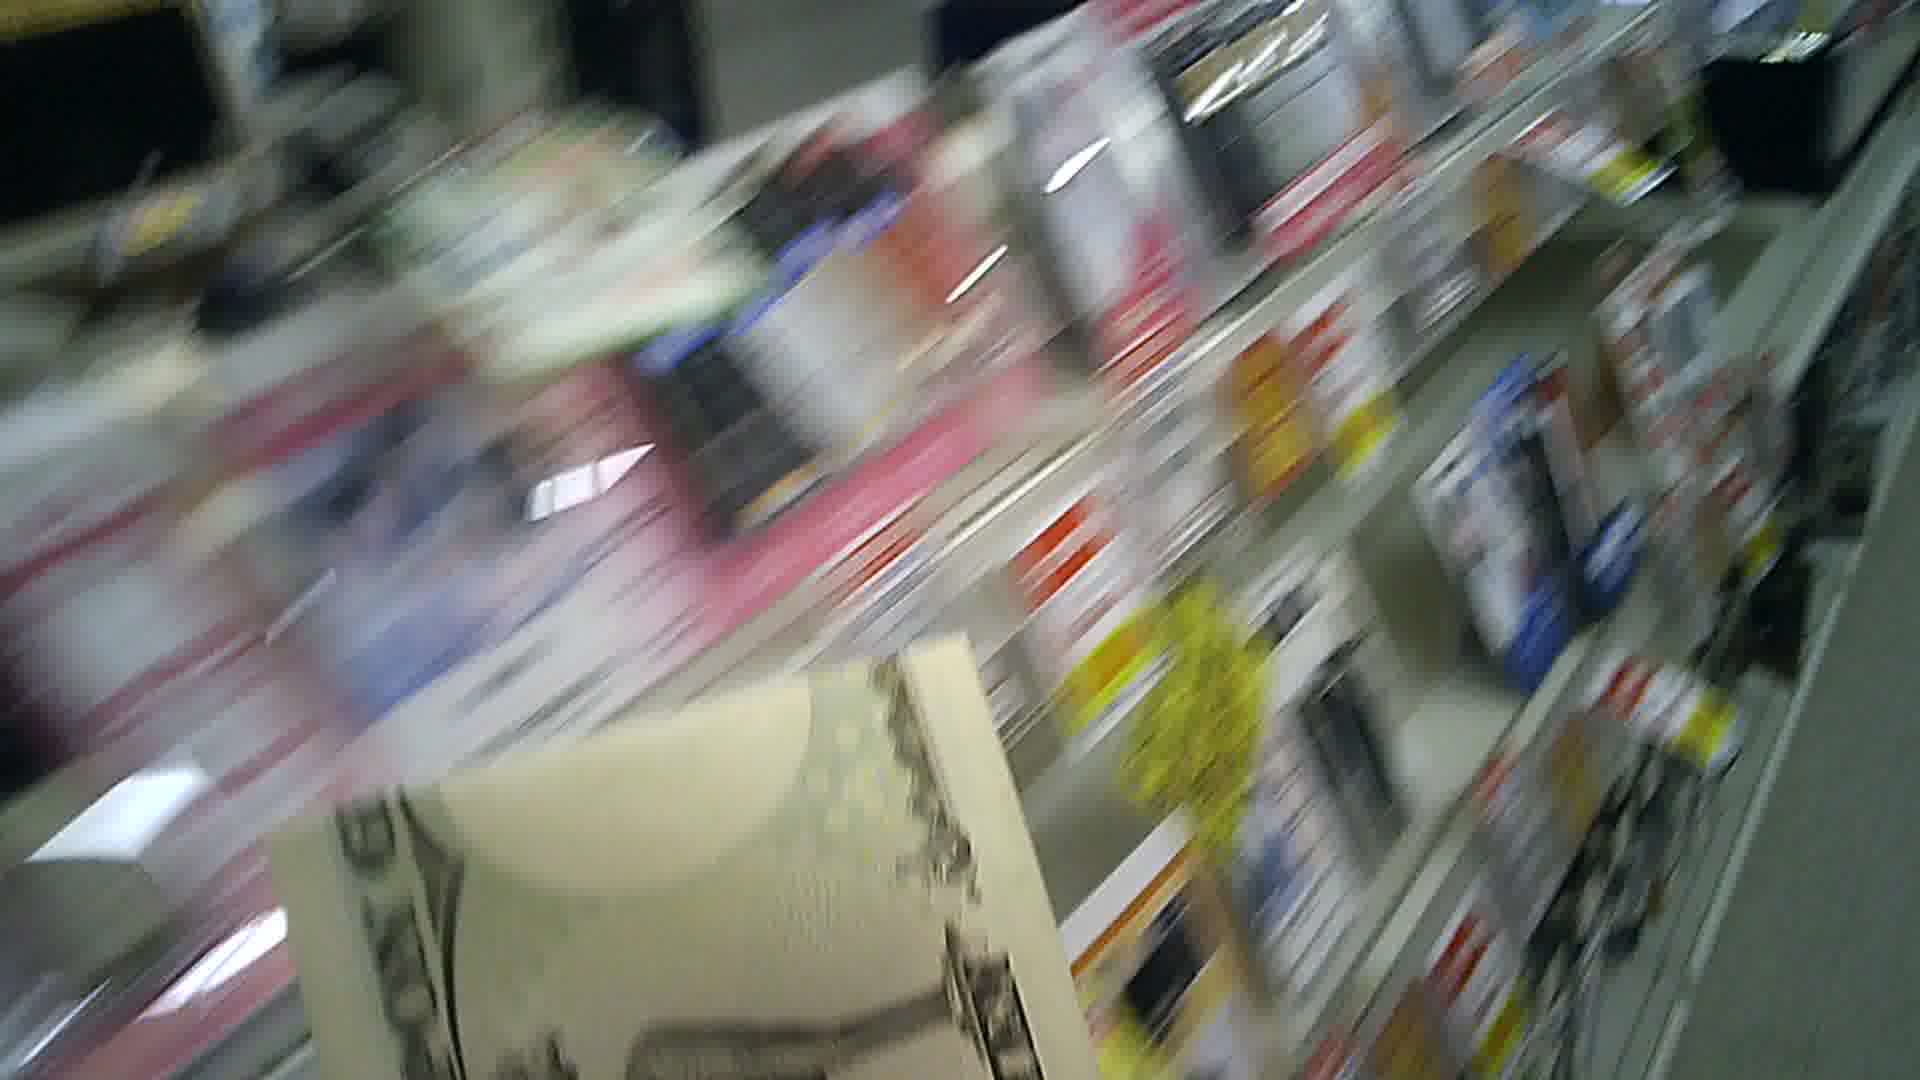10,000 Yen: (280, 663, 1105, 1079)
